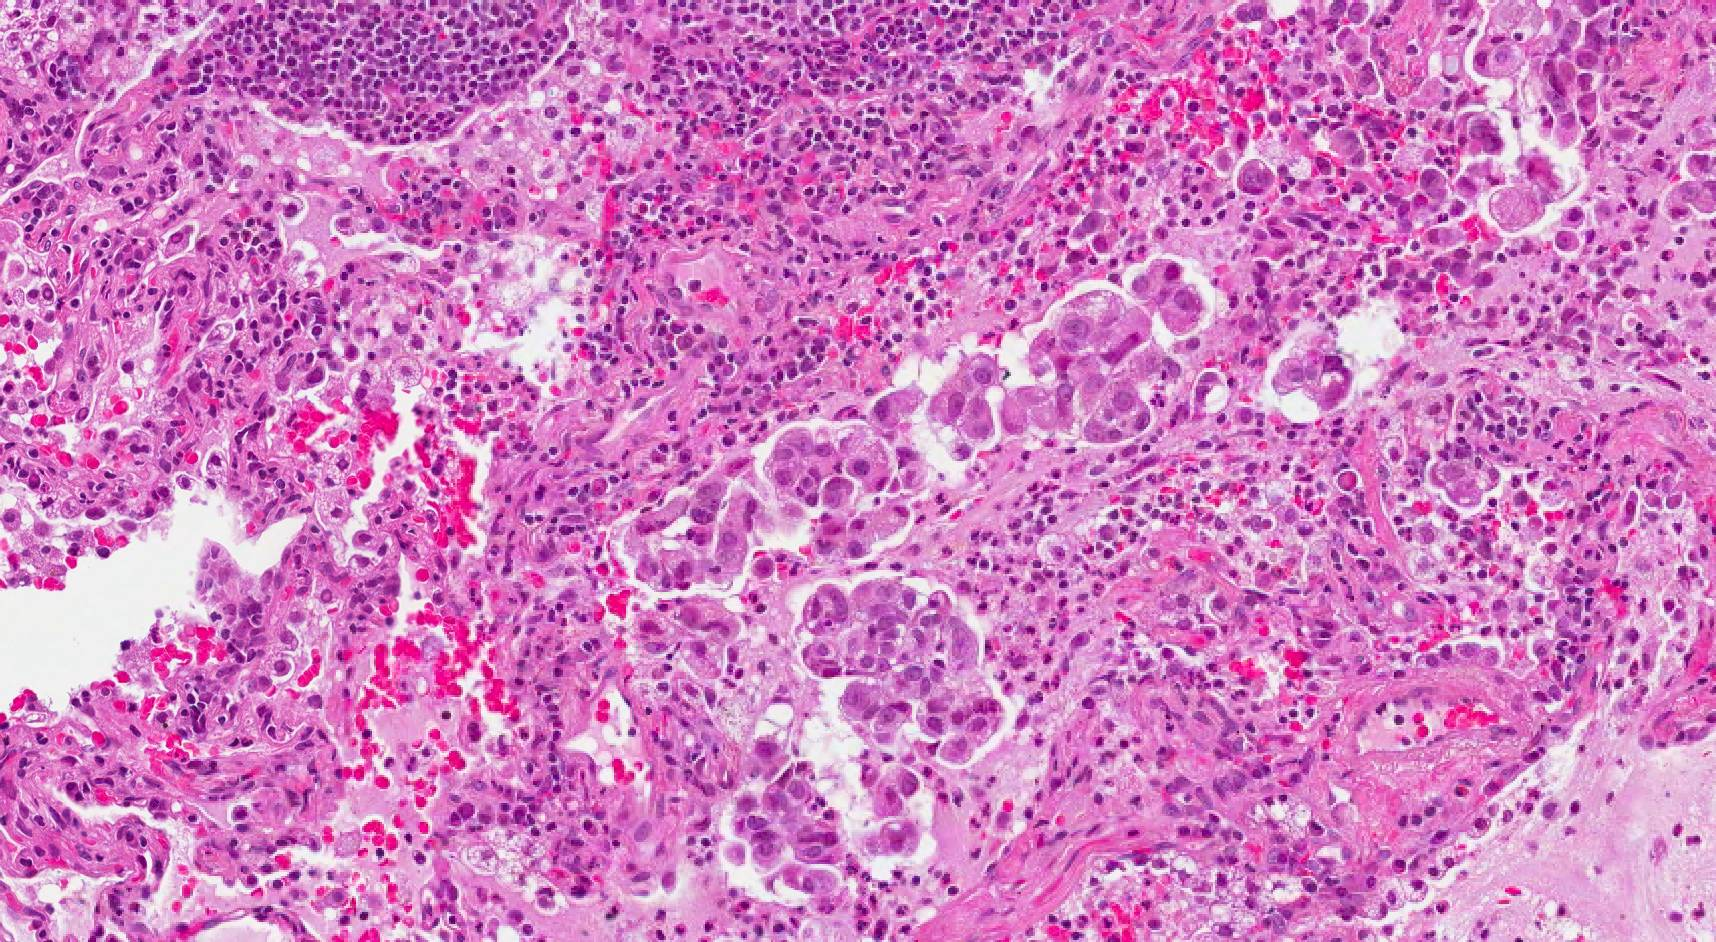stas: (802, 580, 1006, 866), (1001, 252, 1209, 444), (1461, 1, 1607, 234), (763, 390, 930, 562), (623, 447, 762, 590), (723, 774, 850, 898), (640, 596, 741, 681), (929, 350, 1005, 461), (1272, 340, 1357, 406), (1429, 452, 1512, 512), (1240, 155, 1276, 196)
